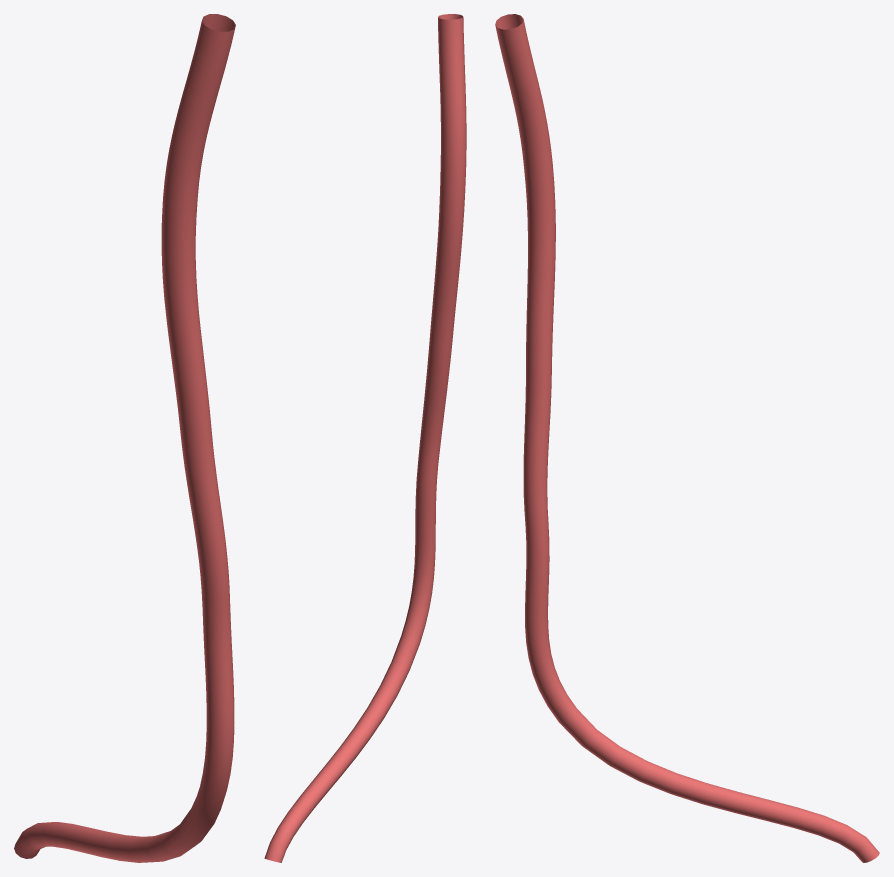
File: Inferior_ulnar_collateral_artery.l_BezierCurve.162.glb
The picture shows the model from 3 angles, left to right: view 1: azimuth 30°, elevation 25°; view 2: azimuth 150°, elevation 25°; view 3: azimuth 270°, elevation 25°; orthographic projection. The views are drawn at different scales.
Parts seen in each view (by area): view 1: Inferior_ulnar_collateral_artery.l_BezierCurve.162; view 2: Inferior_ulnar_collateral_artery.l_BezierCurve.162; view 3: Inferior_ulnar_collateral_artery.l_BezierCurve.162.
Boxes of the visible parts, bbox=[...] form: Inferior_ulnar_collateral_artery.l_BezierCurve.162: bbox=[14, 14, 235, 862]; Inferior_ulnar_collateral_artery.l_BezierCurve.162: bbox=[264, 14, 466, 862]; Inferior_ulnar_collateral_artery.l_BezierCurve.162: bbox=[495, 14, 879, 862].
Bounding box in the file's own units: 0.00469 × 0.0633 × 0.0265.
